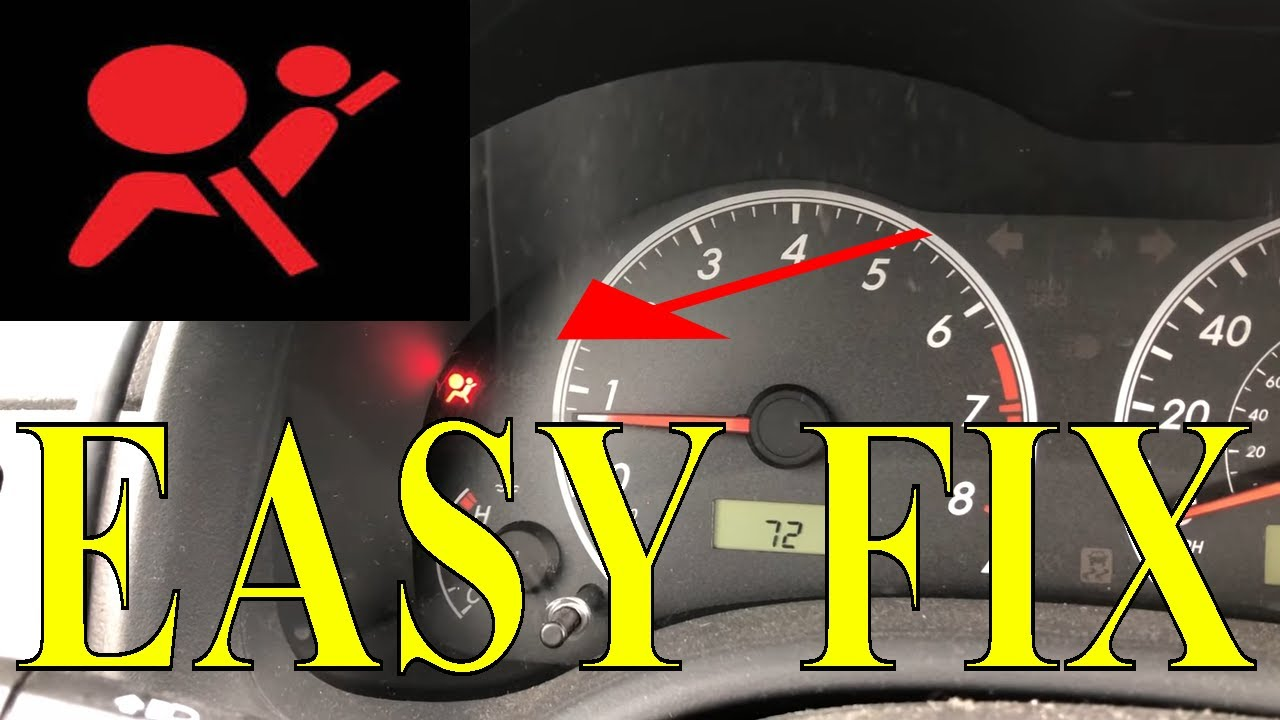Airbag_warning: (442, 367, 485, 410)
